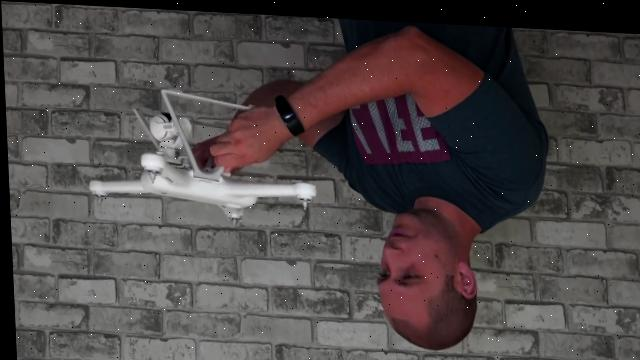drone: (69, 77, 321, 225)
